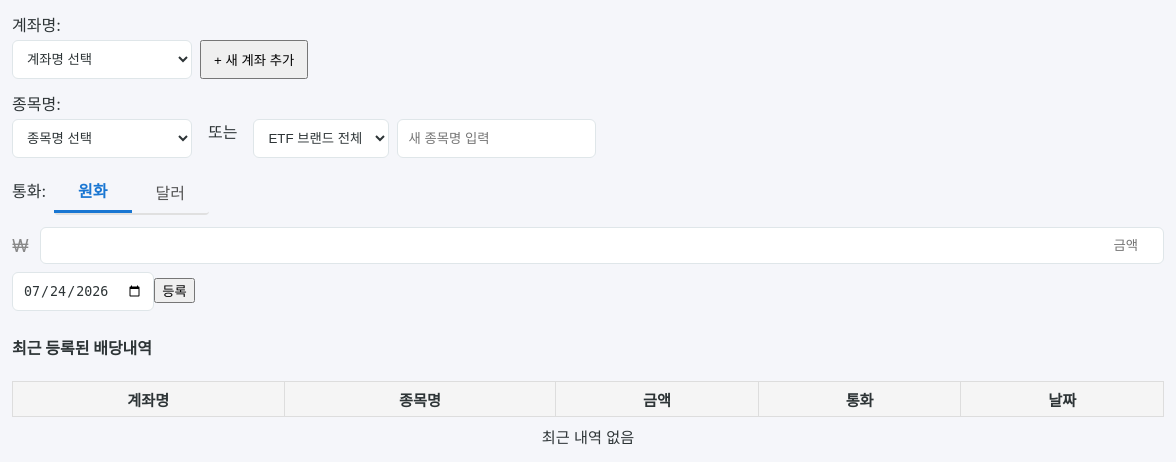
Test: keeps payment date set to today after submitting a dividend
Select "IRP" in the dropdown labelled "계좌명: + 새 계좌 추가": (102, 60) [12,40,192,79]
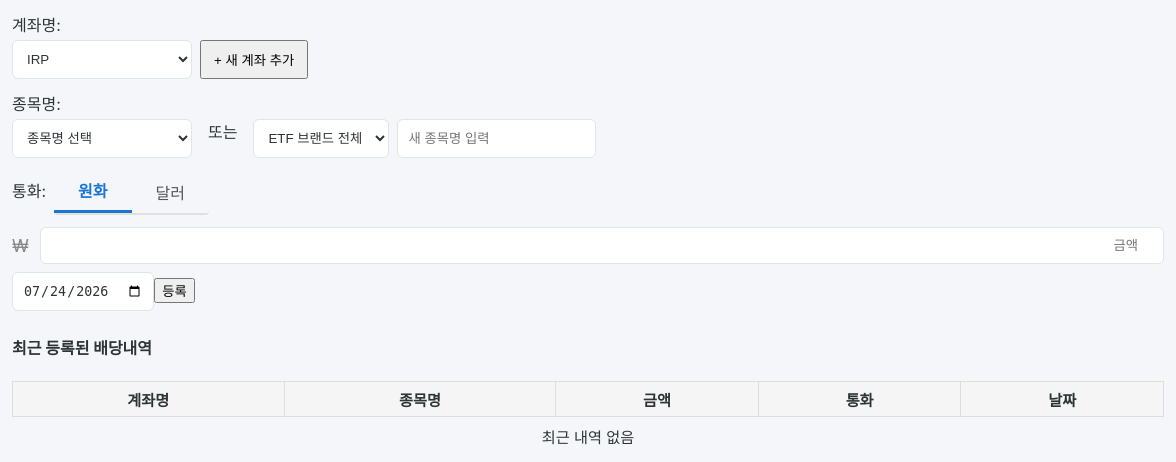
Select "삼성전자" in the dropdown labelled "종목명: 또는": (102, 138) [12,119,192,158]
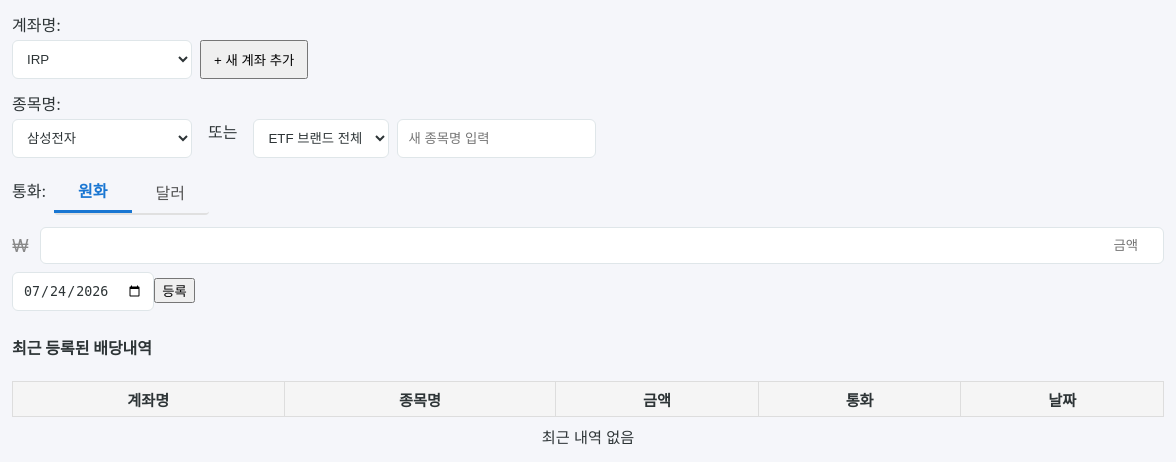
In the number field with placeholder "금액": (602, 246) [40,227,1164,264], type "12000"
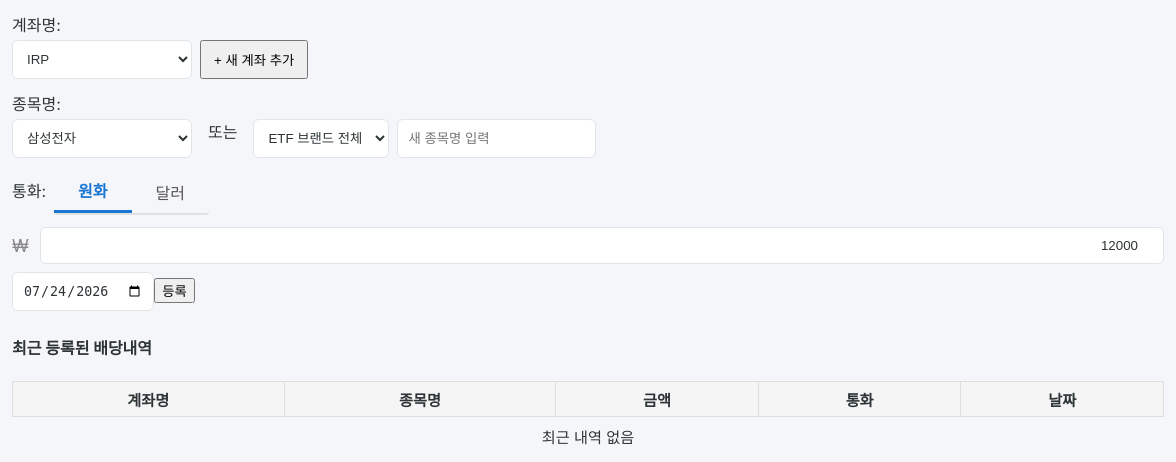
In the date field: (83, 292) [12,272,154,311], type "2026-01-15"
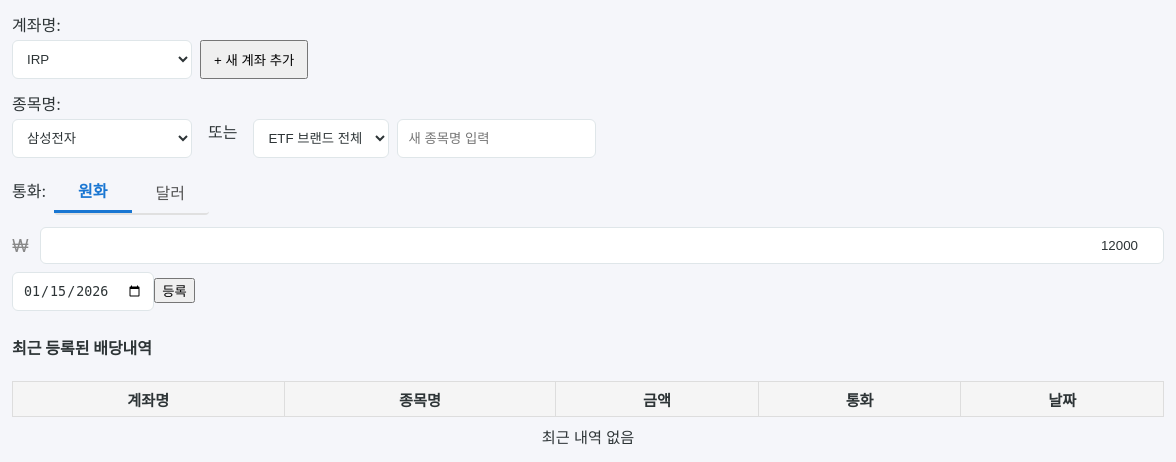
Click the button "등록": (175, 291) [154,278,195,303]
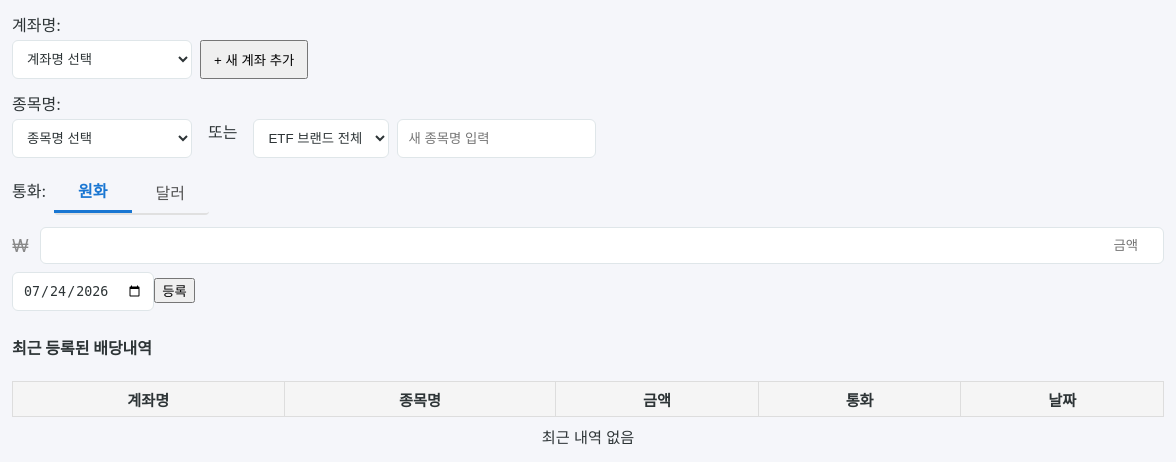
Check: the date field holds "2026-07-24", box [12,272,154,311]
